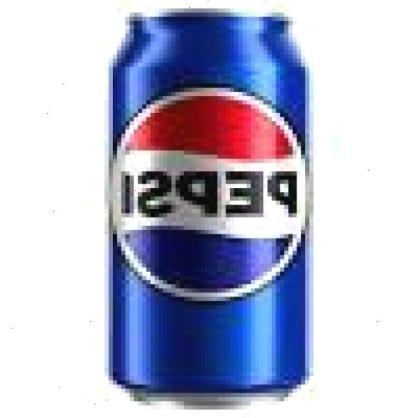can: (104, 8, 315, 414)
